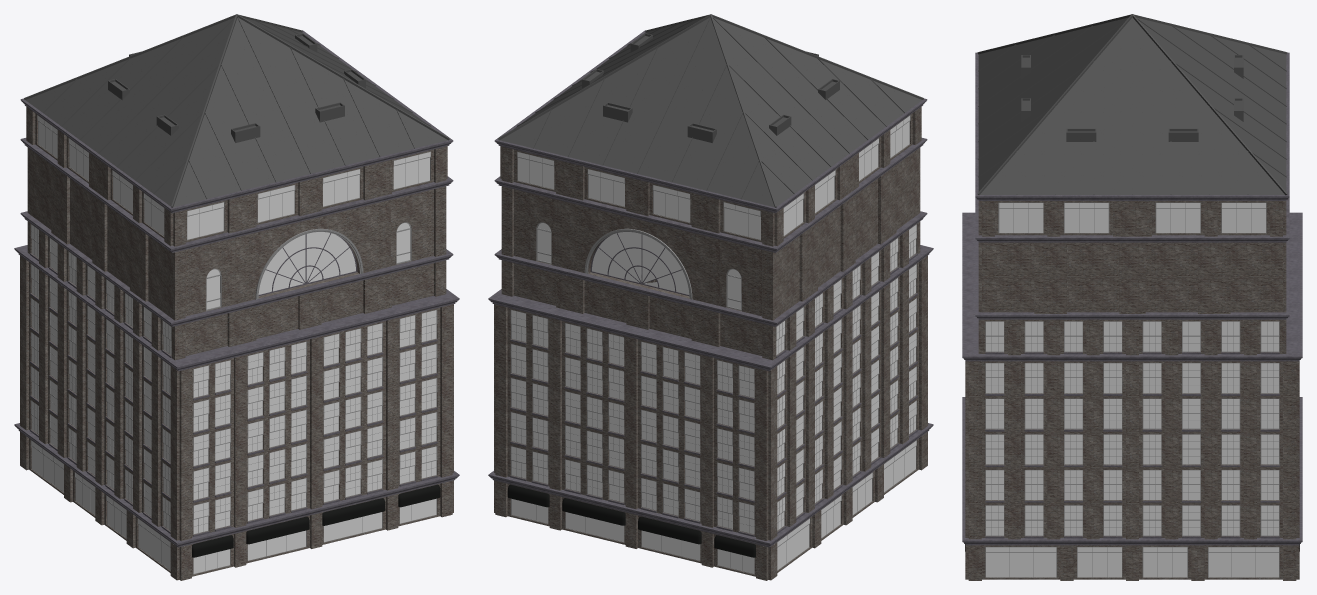
Rendered from Building_07.fbx.
3 renders of one model, left to right at view 1: azimuth 30°, elevation 25°; view 2: azimuth 150°, elevation 25°; view 3: azimuth 270°, elevation 25°, orthographic. The views are drawn at different scales.
Visible parts, largest first — view 1: Building_07_LOD0; view 2: Building_07_LOD0; view 3: Building_07_LOD0.
Boxes of the visible parts, x1=… form: Building_07_LOD0: x1=14, y1=14, x2=459, y2=580; Building_07_LOD0: x1=488, y1=14, x2=933, y2=580; Building_07_LOD0: x1=962, y1=14, x2=1302, y2=580.
Size of what is drawn, in the model's own units: 3170 by 5095 by 3170.
